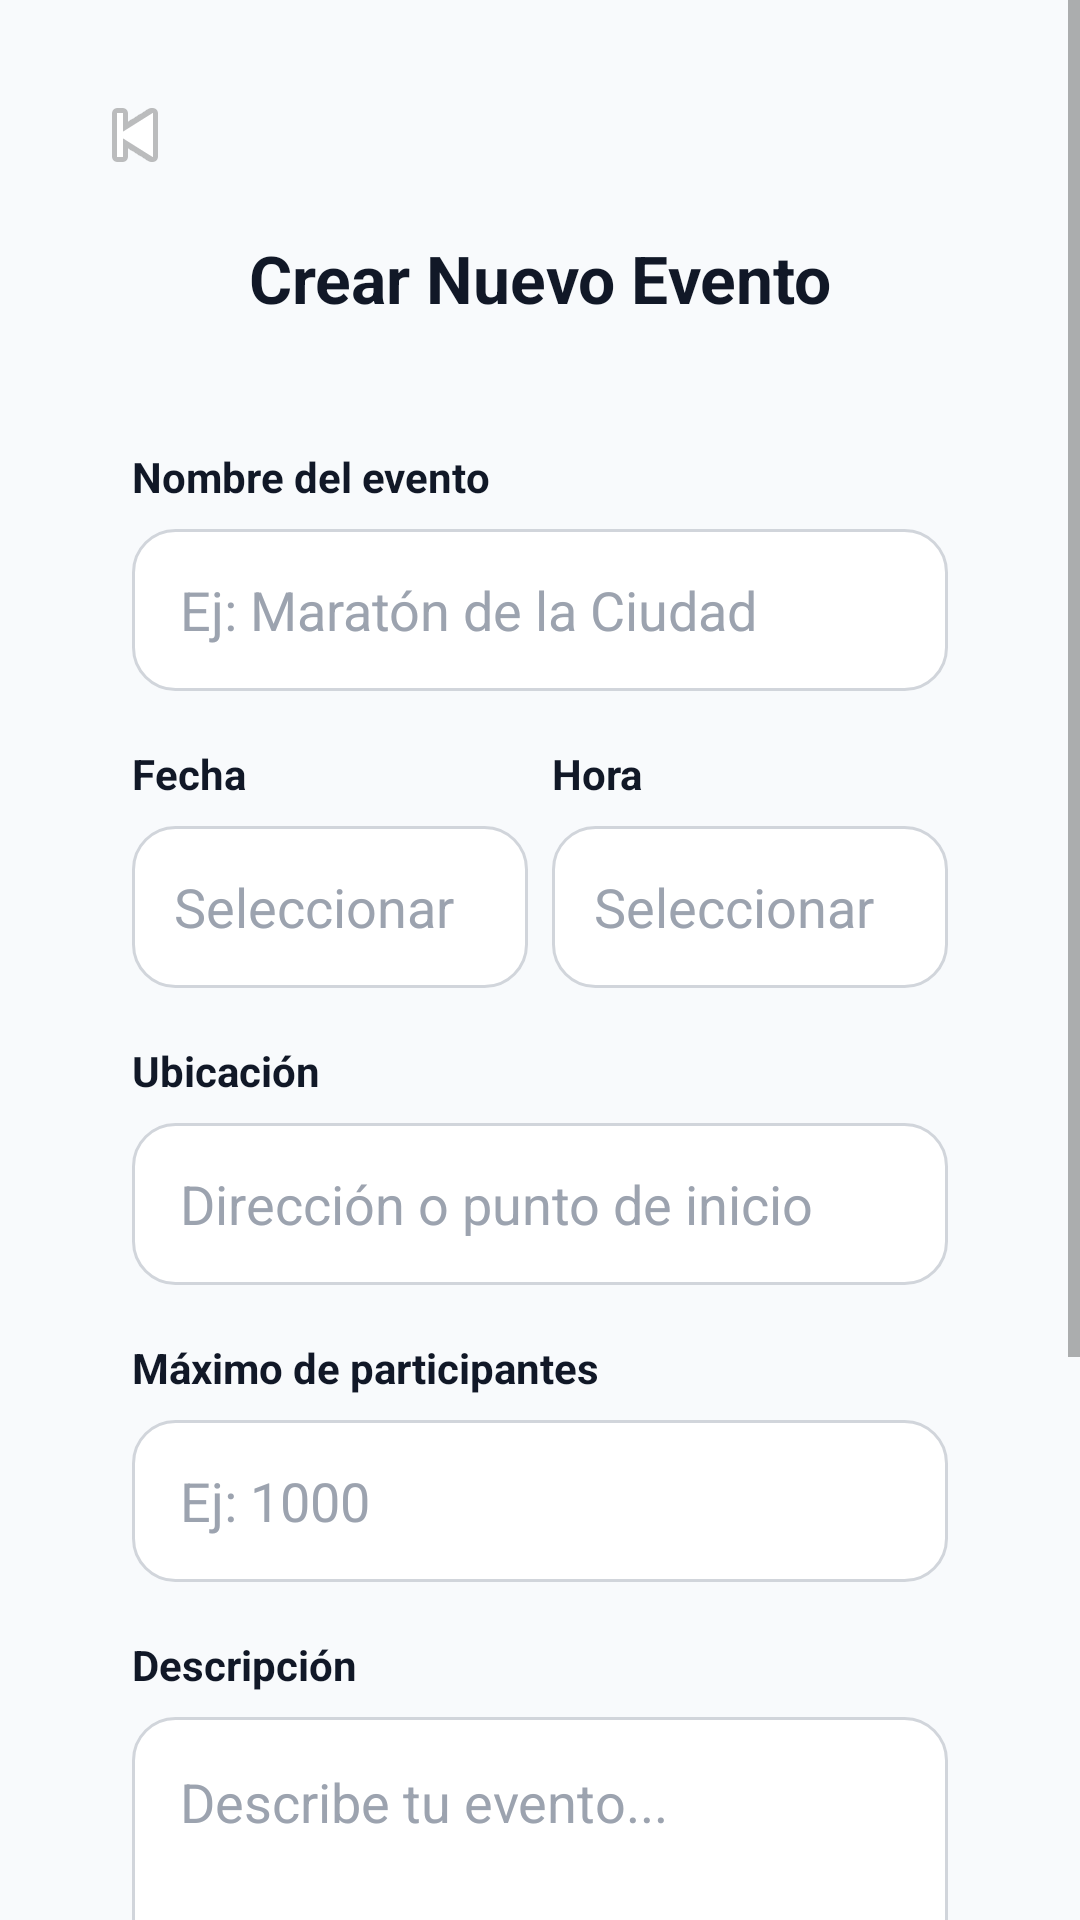

Icon bounding boxes for this 1080px×1920px phone screenshot, format (x1, y1, x2, y2):
Volver: (112, 108, 158, 162)
